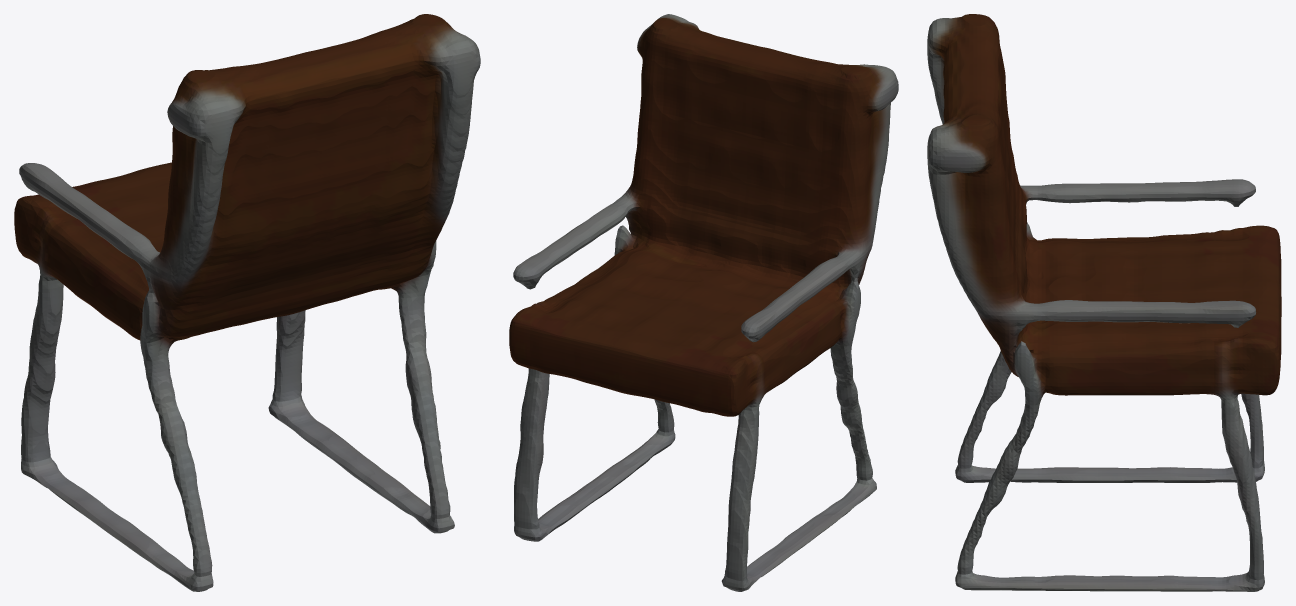
The model's file is chair.glb.
3 renders of one model, left to right at view 1: azimuth 30°, elevation 25°; view 2: azimuth 150°, elevation 25°; view 3: azimuth 270°, elevation 25°, orthographic. The views are drawn at different scales.
Parts seen in each view (by area): view 1: tmp5nbp7_wn.ply; view 2: tmp5nbp7_wn.ply; view 3: tmp5nbp7_wn.ply.
Part boxes in pixels (x1,y1,x2,y2): tmp5nbp7_wn.ply: [14, 14, 480, 591]; tmp5nbp7_wn.ply: [509, 14, 898, 591]; tmp5nbp7_wn.ply: [927, 14, 1281, 591].
Size of the model in its own units: 1.19 by 1.98 by 1.37.
